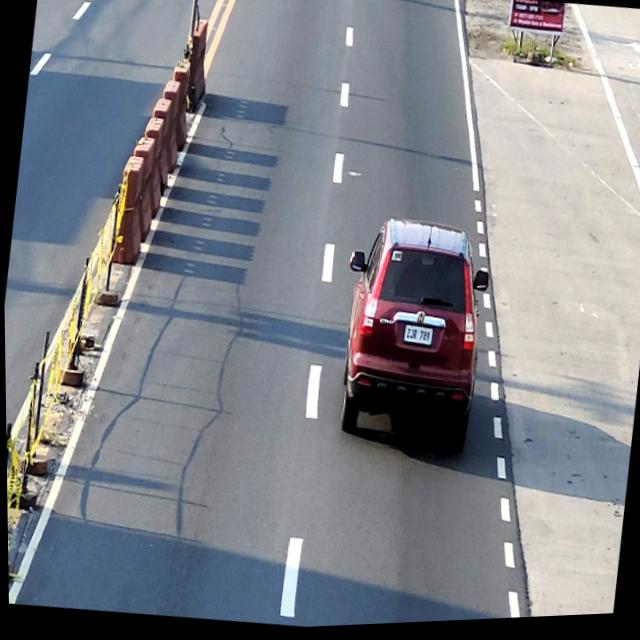Car: (325, 214, 496, 463)
License-Plate: (401, 326, 433, 351)
